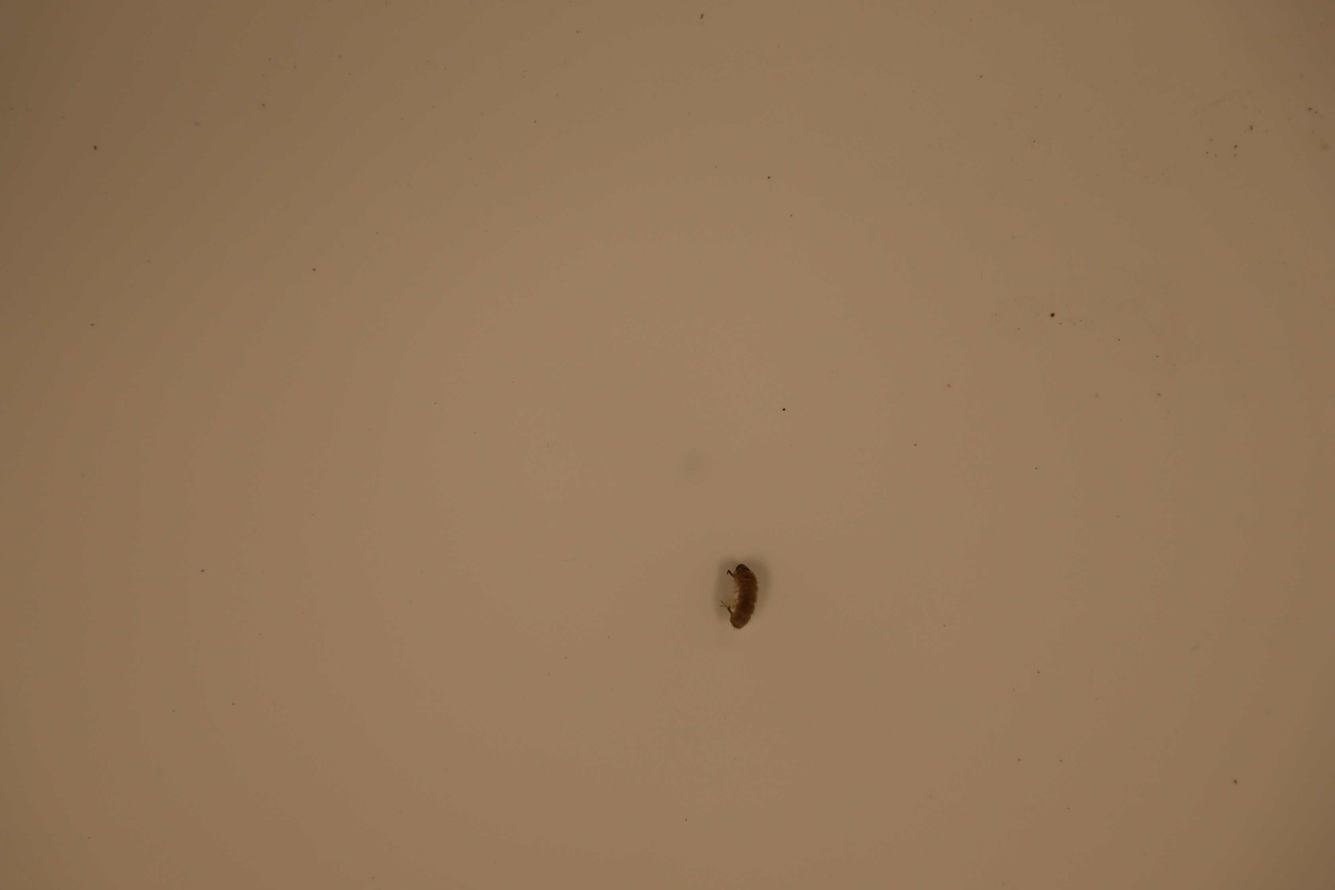Cadisfly: (720, 555, 760, 632)
